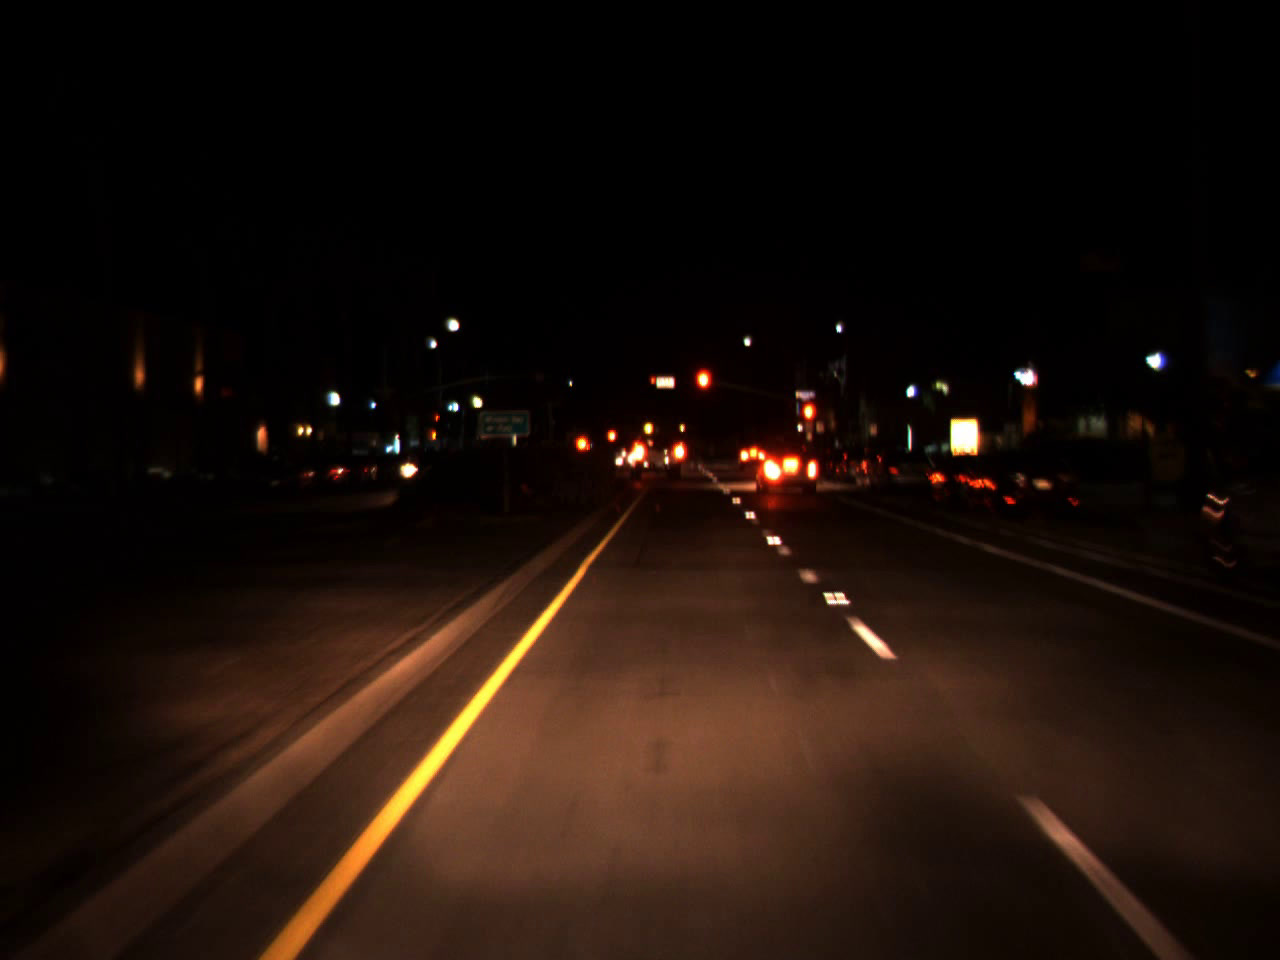stop: (693, 366, 714, 411), (800, 400, 818, 443), (649, 376, 656, 392)
